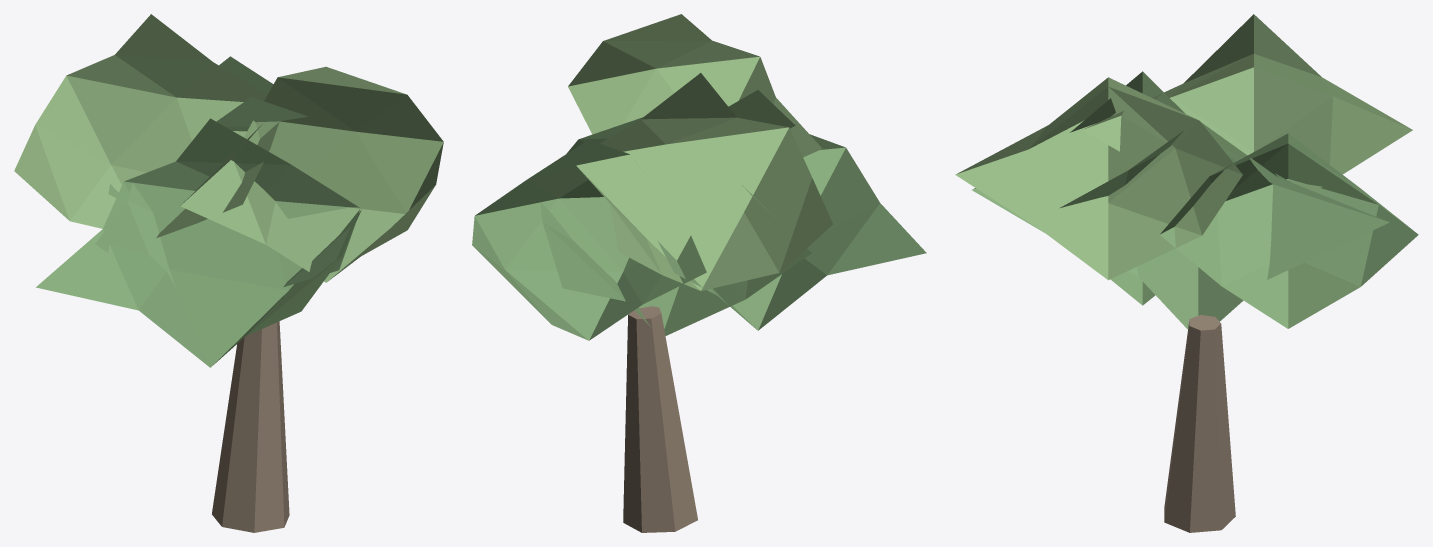
Rendered from broadleaf_v10.glb.
3 renders of one model, left to right at view 1: azimuth 30°, elevation 25°; view 2: azimuth 150°, elevation 25°; view 3: azimuth 270°, elevation 25°, orthographic. The views are drawn at different scales.
Parts seen in each view (by area): view 1: lod0; view 2: lod0; view 3: lod0.
Boxes of the visible parts, x1=… form: lod0: x1=14, y1=14, x2=443, y2=532; lod0: x1=472, y1=14, x2=926, y2=532; lod0: x1=955, y1=14, x2=1418, y2=532.
Size of what is drawn, in the model's own units: 4.06 by 4.98 by 4.44.
